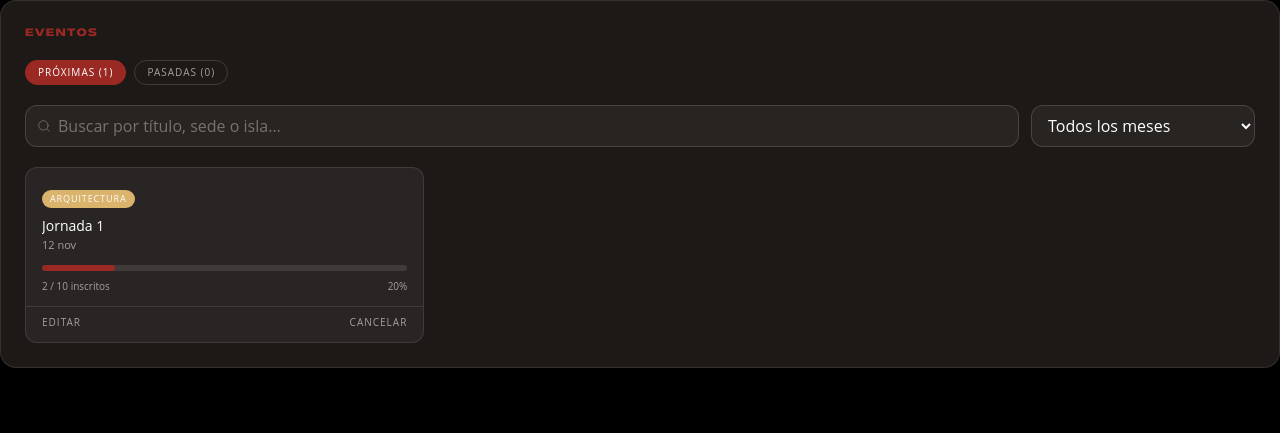
ControlAsistentes — quitar a un inscrito › si falla, muestra el error y deja al inscrito en la lista
Click the text "Jornada 1" at (73, 225), box left=42, top=216, right=104, bottom=234
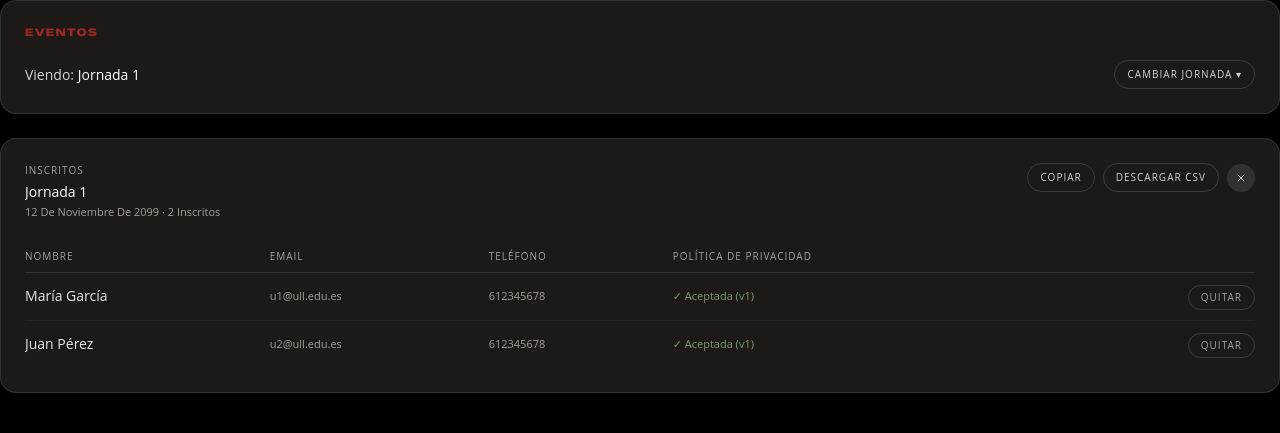
Click the button with aria-label "Quitar a María García" at (1221, 297), box left=1188, top=284, right=1255, bottom=310
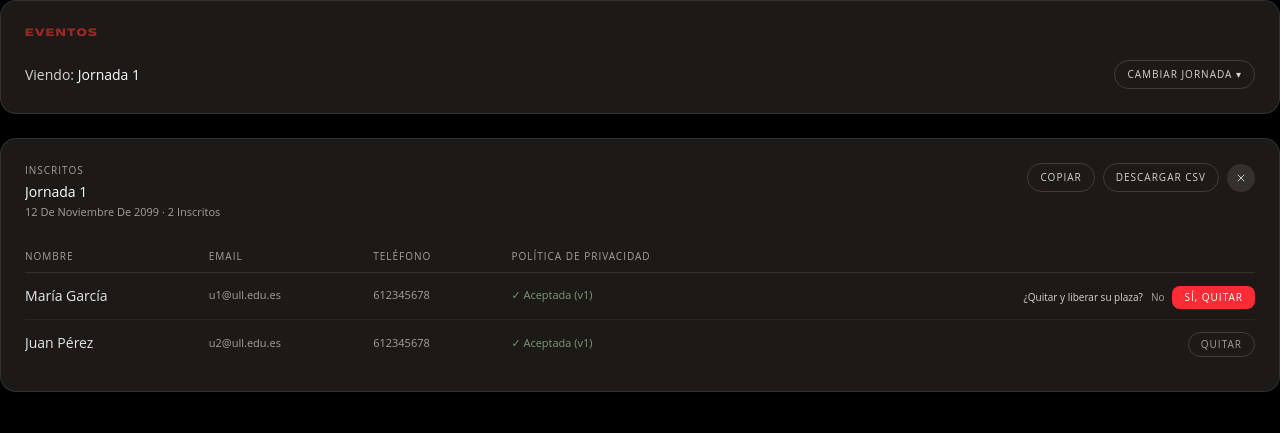
Click the button "Sí, quitar" at (1214, 297), box left=1172, top=286, right=1255, bottom=308
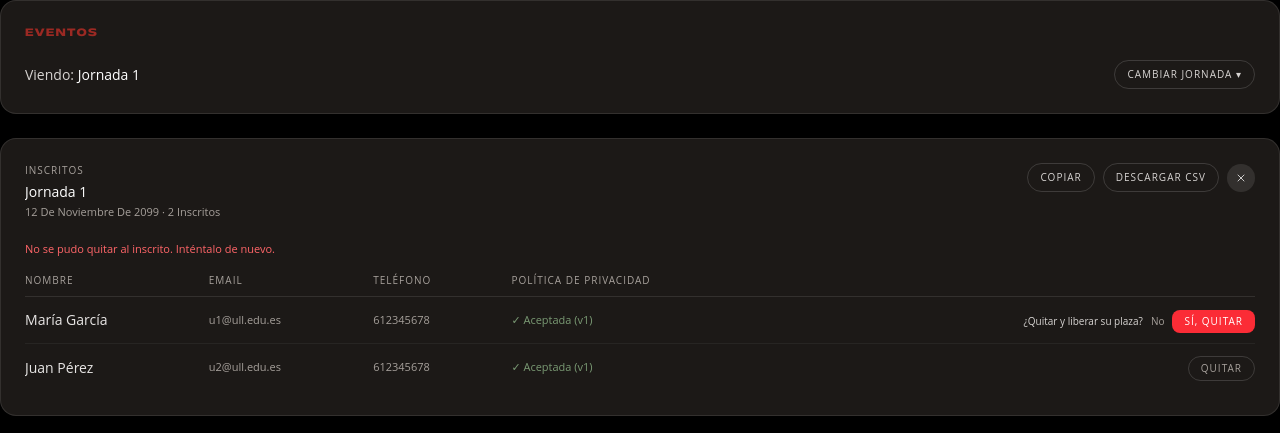
Expected: the text "No se pudo quitar al inscrito. Inténtalo de nuevo." is shown, left=25, top=240, right=275, bottom=256
